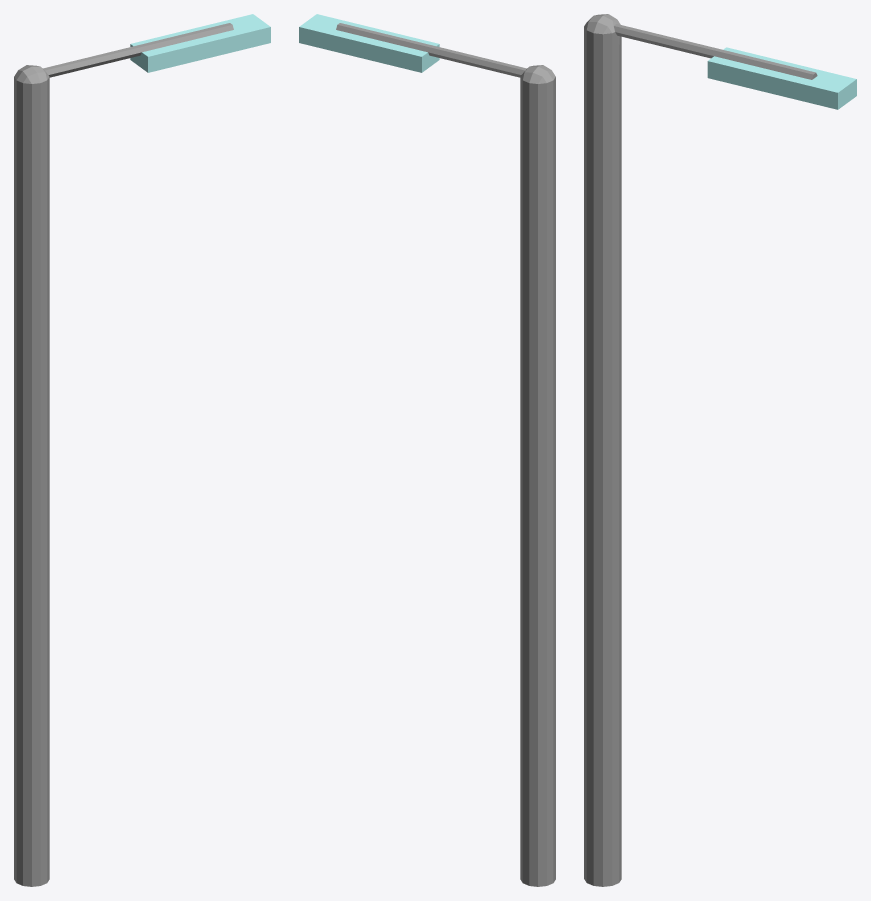
Rendered from street_lamp.fbx.
The picture shows the model from 3 angles, left to right: view 1: azimuth 30°, elevation 25°; view 2: azimuth 150°, elevation 25°; view 3: azimuth 330°, elevation 25°; orthographic projection. The views are drawn at different scales.
Parts seen in each view (by area): view 1: Street_Lamp; view 2: Street_Lamp; view 3: Street_Lamp.
Part boxes in pixels (bbox=[...]): Street_Lamp: bbox=[14, 14, 270, 886]; Street_Lamp: bbox=[299, 14, 555, 886]; Street_Lamp: bbox=[584, 14, 856, 886].
Size of the model in its own units: 240 by 759 by 30.
